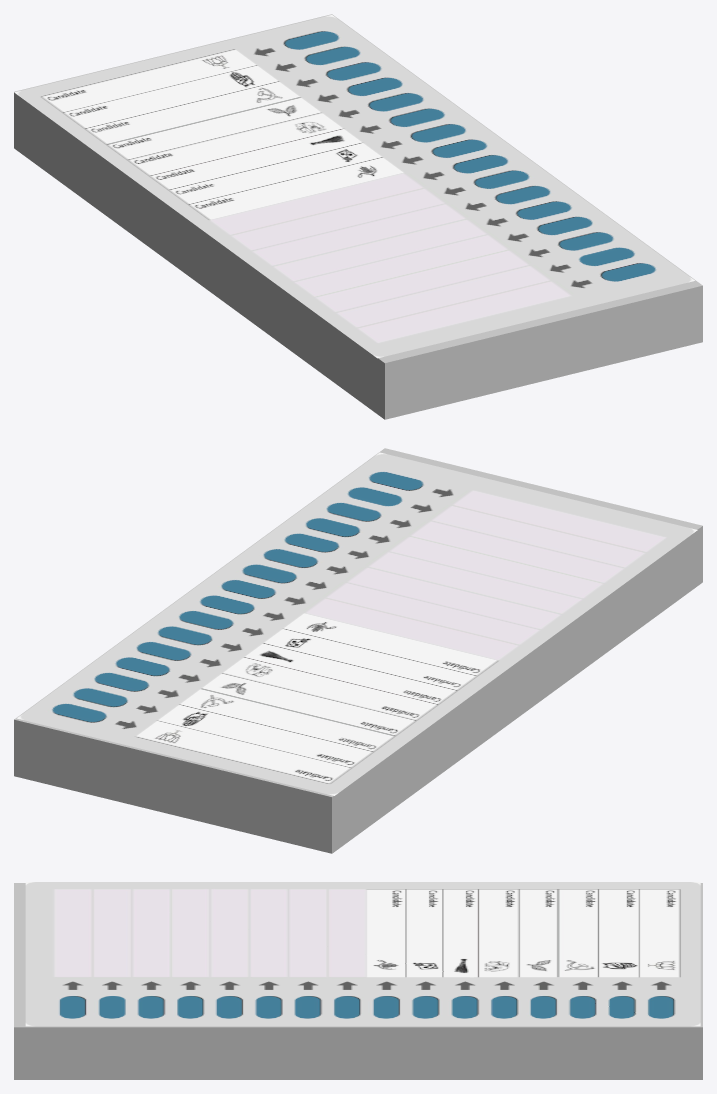
The picture shows the model from 3 angles, top to bottom: view 1: azimuth 30°, elevation 25°; view 2: azimuth 150°, elevation 25°; view 3: azimuth 270°, elevation 25°; orthographic projection. The views are drawn at different scales.
Parts seen in each view (by area): view 1: Quad, Cube; view 2: Quad, Cube; view 3: Quad, Cube.
Boxes of the visible parts, x1,y1,x2,y2 form: Quad: (14,15,694,358); Cube: (14,14,702,419); Quad: (17,452,697,795); Cube: (14,448,702,853); Quad: (25,882,700,1026); Cube: (14,883,702,1079).
Bounding box in the file's own units: 1.03 × 0.1763 × 2.07.
2 materials, 1 textured.
